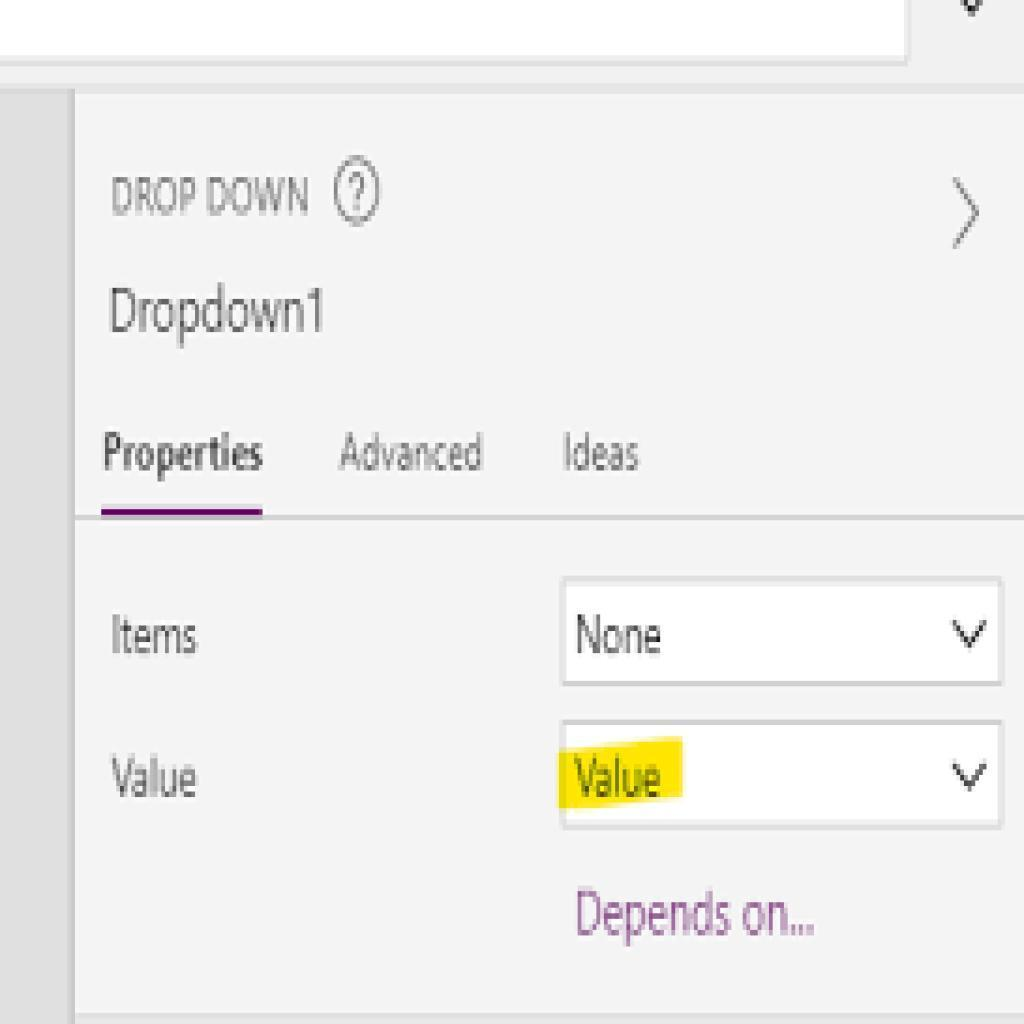dropdown: (563, 575, 1004, 690), (567, 725, 999, 834)
icon: (334, 154, 383, 230), (945, 174, 987, 259)
label: (100, 427, 270, 477), (332, 432, 497, 479), (104, 750, 212, 815), (98, 612, 204, 666), (561, 427, 649, 479)
